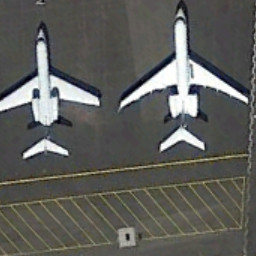Airplane: (115, 2, 253, 164), (1, 16, 105, 167)
